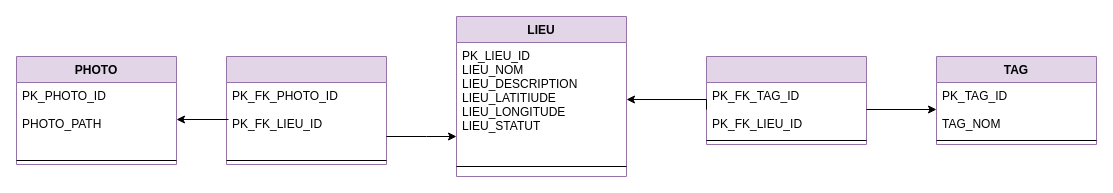
Image size: 1113x193. Some labels were removed from this diagram. Each missing label, with the box of its shape:
LIEU_HAS_PHOTO: (226, 56, 386, 164)
LIEU_HAS_TAG: (706, 56, 866, 144)
